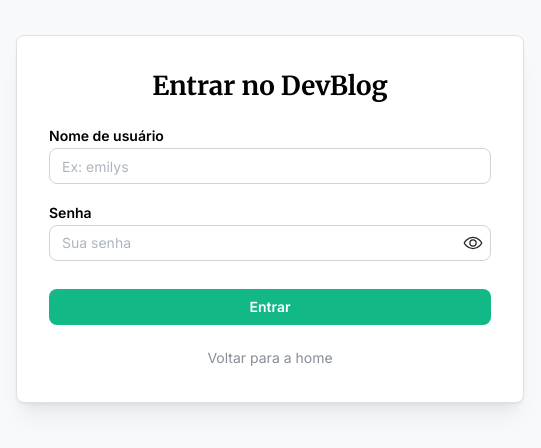
LoginPage › mostra erros de validação ao submeter vazio
Click the button "Entrar". click: (270, 307)
box: [49, 289, 491, 325]
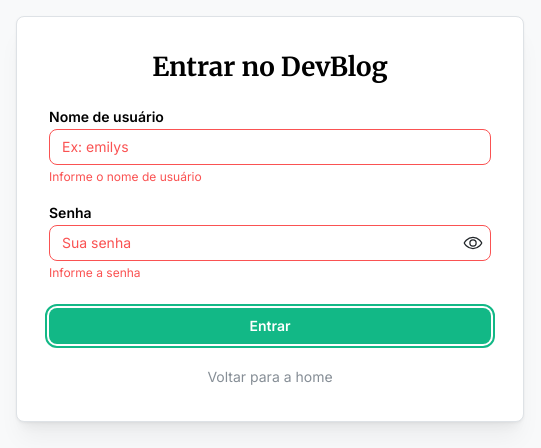
Expected: the text "Informe o nome de usuário" is shown, [49, 169, 202, 184]
Expected: the text "Informe a senha" is shown, [49, 265, 141, 280]
